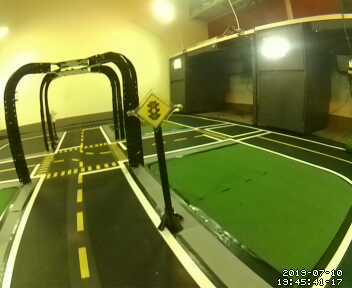Traffic light sign: (136, 91, 173, 126)
